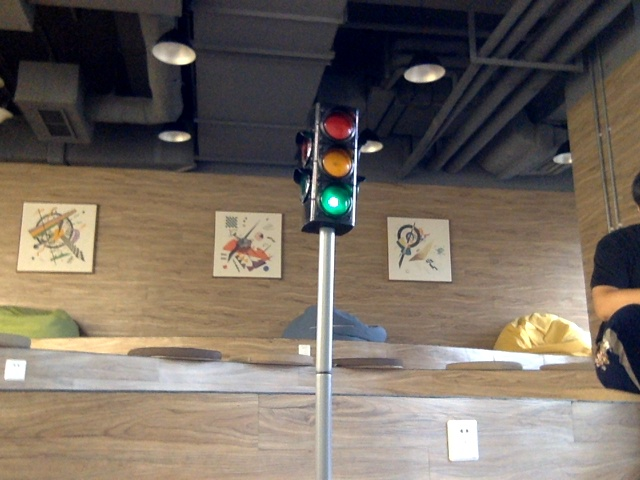green: (312, 114, 351, 217)
